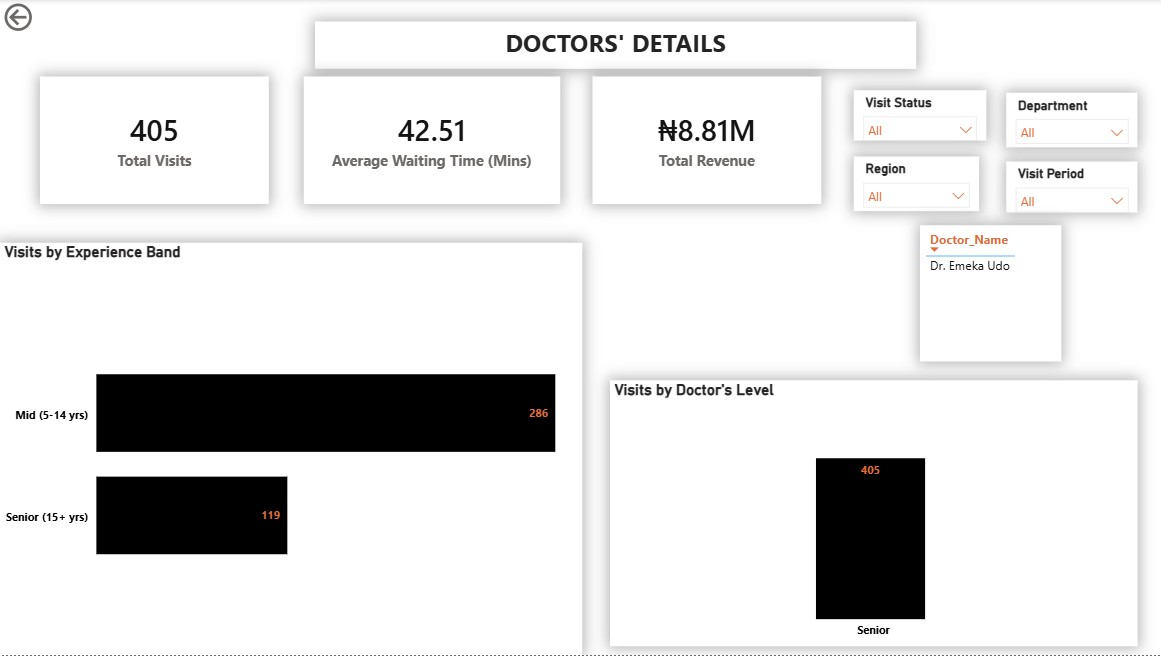

What the dashboard file says about the page in this screenshot:
{"tool":"powerbi","page":{"name":"Doctors' Details","canvas":[1280,720],"ordinal":4},"visuals":[{"type":"textbox","box":[345.8,24.7,660,52.1],"z":0},{"type":"slicer","fields":{"Values":["Visits.Visit_Status"]},"box":[937.2,100.2,145.5,54.9],"z":1000},{"type":"slicer","fields":{"Values":["Visits.Department"]},"box":[1104.6,102.9,144.1,60.4],"z":2000},{"type":"slicer","fields":{"Values":["Locations.Region"]},"box":[937.2,172.9,137.2,60.4],"z":3000},{"type":"slicer","fields":{"Values":["Visits.Visit_Months"]},"box":[1104.6,178.4,144.1,56.3],"z":4000},{"type":"cardVisual","fields":{"Data":["dax.Average Waiting Time (Mins)"]},"box":[333.4,85.1,281.3,140],"z":5000},{"type":"cardVisual","fields":{"Data":["dax.Total Visits"]},"box":[43.9,85.1,251.1,140],"z":6000},{"type":"cardVisual","fields":{"Data":["dax.Total Revenue"]},"box":[650.4,85.1,251.1,140],"z":7000},{"type":"tableEx","fields":{"Values":["Doctors.Doctor_Name"]},"box":[1010,248.4,155.1,149.6],"z":8000},{"type":"actionButton","box":[0,0,100,40],"z":9000},{"type":"columnChart","title":"Visits by Doctor''s Level","fields":{"Y":["dax.Total Visits"],"Category":["Doctors.Level"]},"box":[669.6,418.5,579.1,292.3],"z":10000},{"type":"barChart","title":"Visits by Experience Band","fields":{"Y":["dax.Total Visits"],"Category":["Doctors.Experience_Band"]},"box":[0,267.6,639.5,452.8],"z":11000}]}

Visuals, with their boxes in screenshot pixels (x1, y1, x2, y2), scaled from the page's 1280x720 canvas onto the 1161x656 screenshot:
textbox: {"x1": 314, "y1": 23, "x2": 912, "y2": 70}
slicer - Visits.Visit_Status: {"x1": 850, "y1": 91, "x2": 982, "y2": 141}
slicer - Visits.Department: {"x1": 1002, "y1": 94, "x2": 1133, "y2": 149}
slicer - Locations.Region: {"x1": 850, "y1": 158, "x2": 975, "y2": 213}
slicer - Visits.Visit_Months: {"x1": 1002, "y1": 163, "x2": 1133, "y2": 214}
cardVisual - dax.Average Waiting Time (Mins): {"x1": 302, "y1": 78, "x2": 558, "y2": 205}
cardVisual - dax.Total Visits: {"x1": 40, "y1": 78, "x2": 268, "y2": 205}
cardVisual - dax.Total Revenue: {"x1": 590, "y1": 78, "x2": 818, "y2": 205}
tableEx - Doctors.Doctor_Name: {"x1": 916, "y1": 226, "x2": 1057, "y2": 363}
actionButton: {"x1": 0, "y1": 0, "x2": 91, "y2": 36}
"Visits by Doctor''s Level" columnChart: {"x1": 607, "y1": 381, "x2": 1133, "y2": 648}
"Visits by Experience Band" barChart: {"x1": 0, "y1": 244, "x2": 580, "y2": 655}
